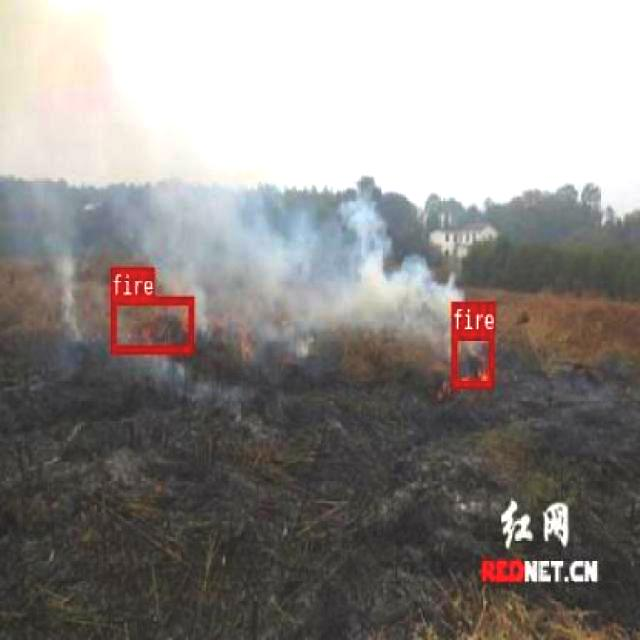fire: (110, 296, 193, 350), (452, 330, 494, 387)
